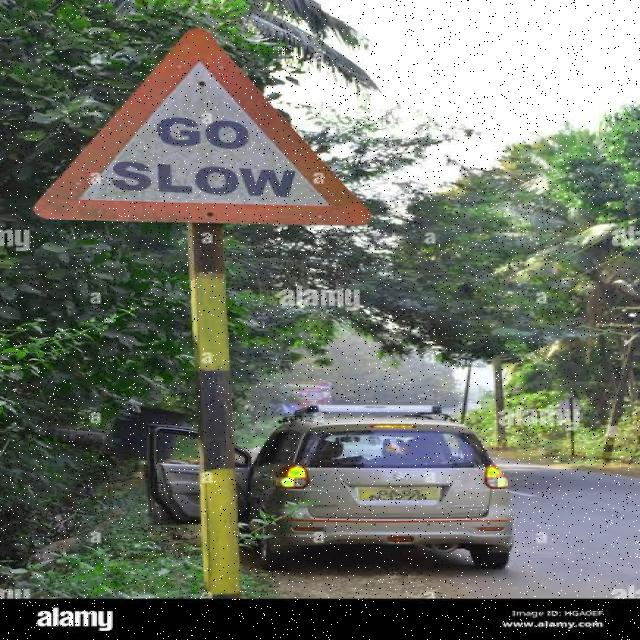go_slow: (28, 34, 372, 228)
